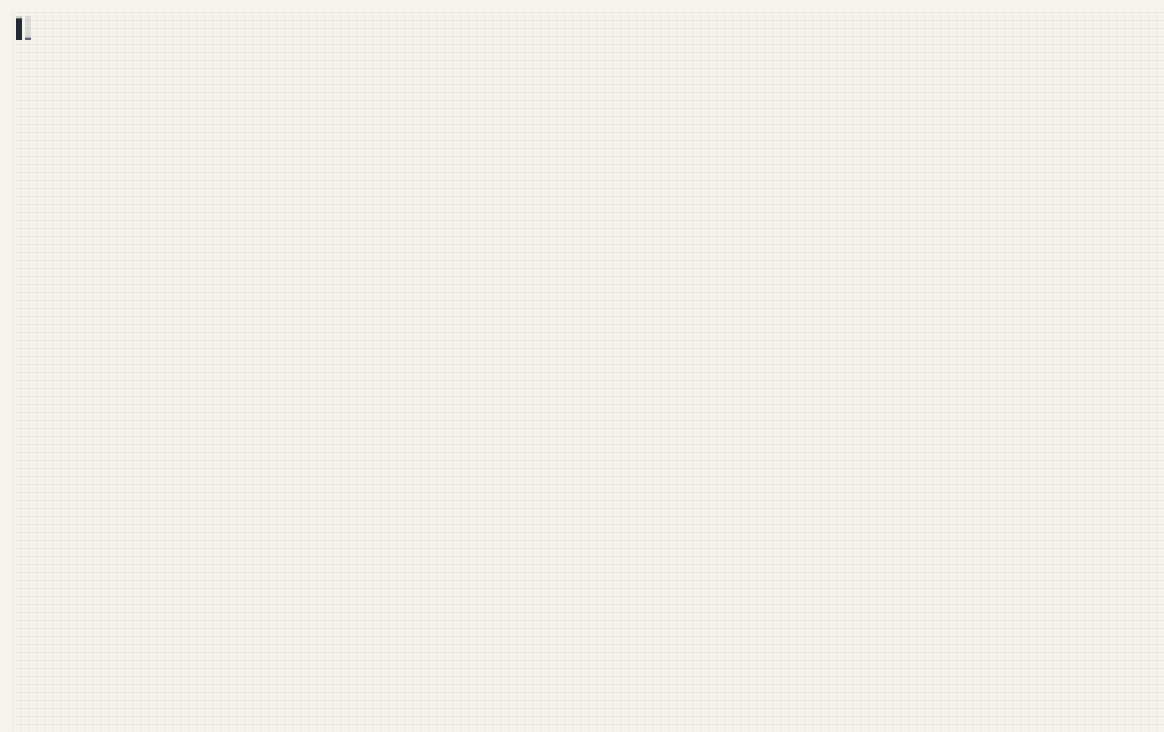
Test: ConditionStrip › describes physical units and characteristic parameters
The width and height of the screenshot is (1164, 732).
Focus the button named "Speed: 0.42 m/s (characteristic); Light: 12 lux": coordinates (24, 28) [12,12,35,44]
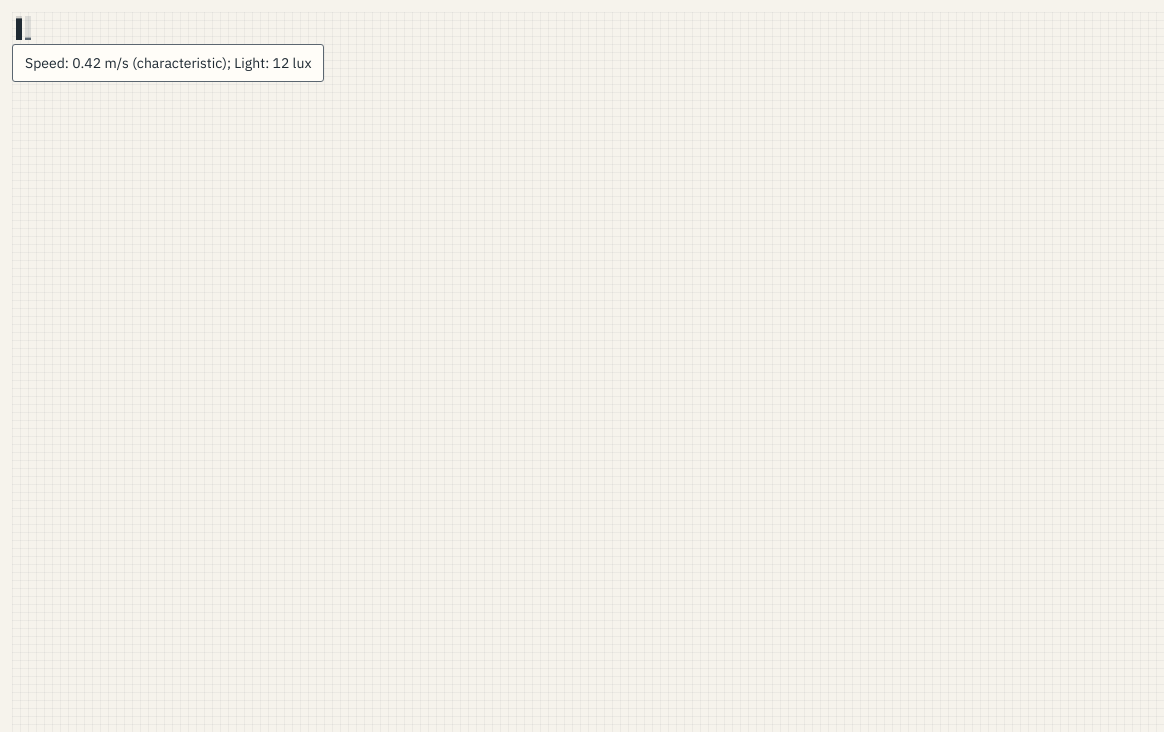
Result: the tooltip shows "12 lux" at [25,54,312,72]
Press Escape in the button named "Speed: 0.42 m/s (characteristic); Light: 12 lux", box [12,12,35,44]
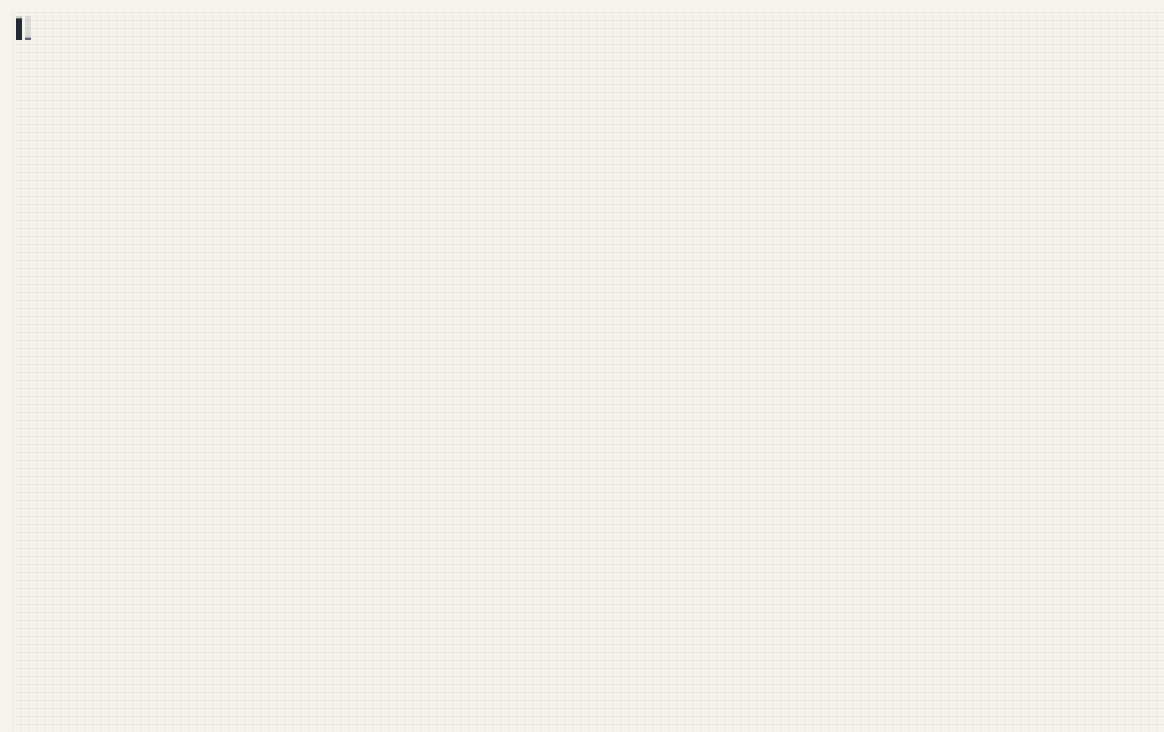
Result: the tooltip "Speed: 0.42 m/s (characteristic); Light: 12 lux" is gone
